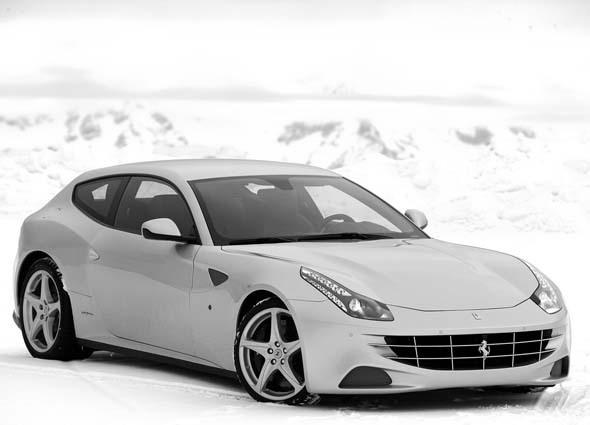car: (12, 157, 578, 410)
